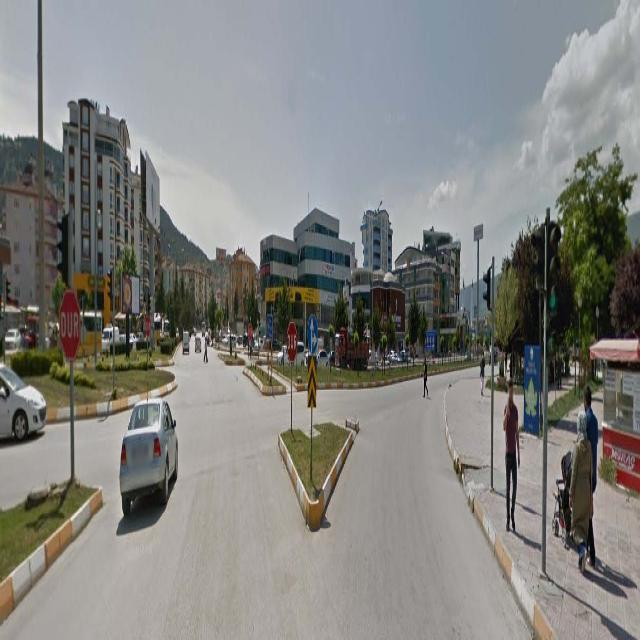dur: (60, 291, 80, 362), (287, 322, 297, 362)
ilerisag: (308, 314, 318, 354)
yesil: (546, 223, 557, 313)
